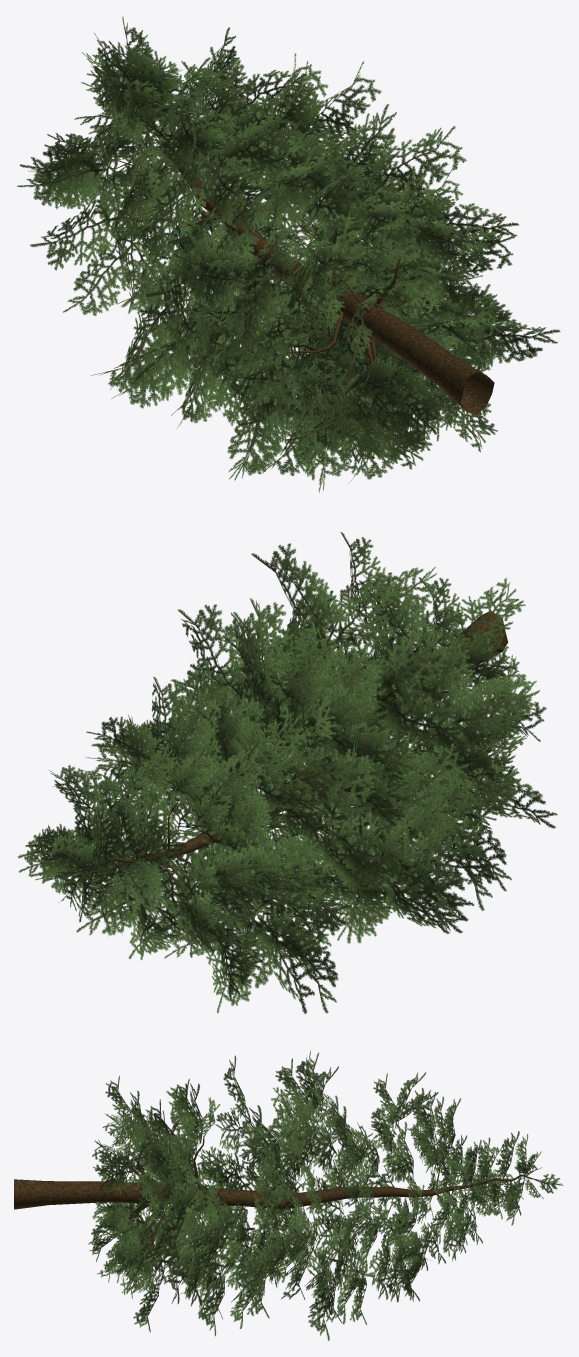
The model's file is fir_lod1.glb.
3 renders of one model, top to bottom at view 1: azimuth 30°, elevation 25°; view 2: azimuth 150°, elevation 25°; view 3: azimuth 270°, elevation 25°, orthographic. The views are drawn at different scales.
Visible parts, largest first — view 1: Christmas tree_2_LOD1; view 2: Christmas tree_2_LOD1; view 3: Christmas tree_2_LOD1.
Part boxes in pixels (x1,y1,x2,y2): Christmas tree_2_LOD1: [17, 16, 560, 492]; Christmas tree_2_LOD1: [18, 532, 557, 1013]; Christmas tree_2_LOD1: [14, 1050, 563, 1340].
Size of the model in its own units: 4.95 by 4.88 by 9.24.
2 materials, 2 textured.
